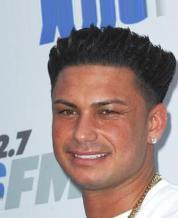face: (55, 99, 120, 164)
